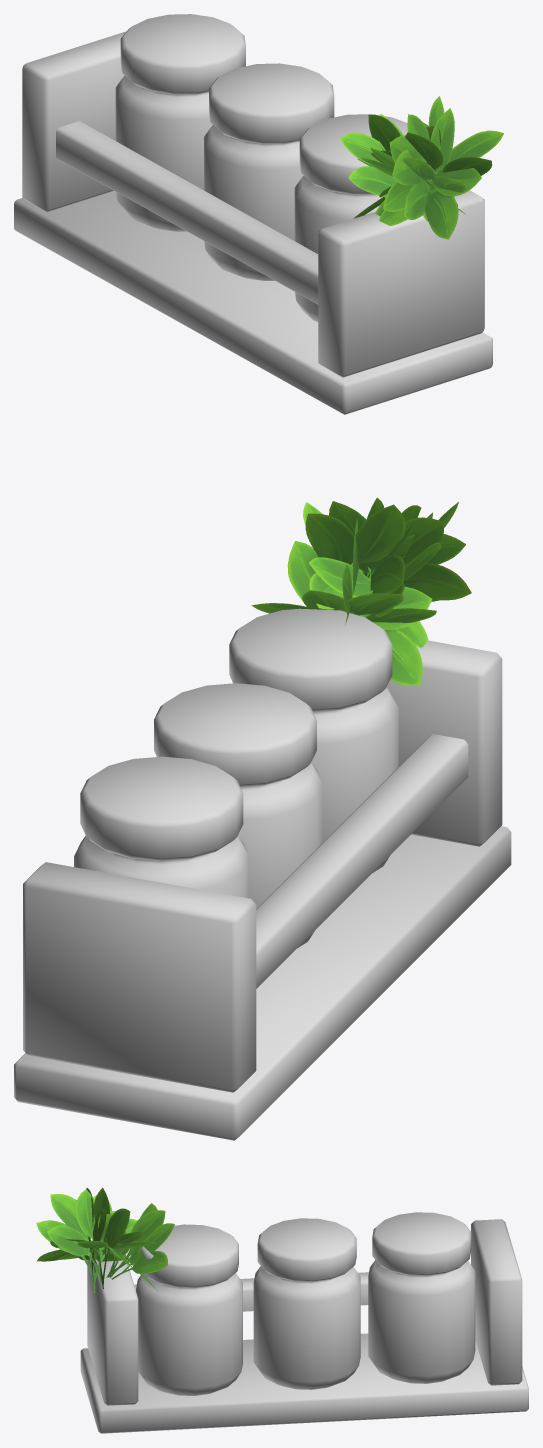
Rendered from decoration_spice_rack.fbx.
3 renders of one model, top to bottom at view 1: azimuth 30°, elevation 25°; view 2: azimuth 150°, elevation 25°; view 3: azimuth 270°, elevation 25°, orthographic. The views are drawn at different scales.
Parts seen in each view (by area): view 1: decoration_spice_rack, m_city_basil_01 (2); view 2: decoration_spice_rack, m_city_basil_01 (2); view 3: decoration_spice_rack, m_city_basil_01 (2).
Boxes of the visible parts, x1,y1,x2,y2 form: decoration_spice_rack: [14, 14, 492, 414]; m_city_basil_01 (2): [340, 96, 503, 239]; decoration_spice_rack: [14, 608, 511, 1140]; m_city_basil_01 (2): [251, 498, 471, 686]; decoration_spice_rack: [80, 1212, 528, 1433]; m_city_basil_01 (2): [36, 1187, 174, 1294].
Bounding box in the file's own units: 0.3286 × 0.3992 × 0.7643.
